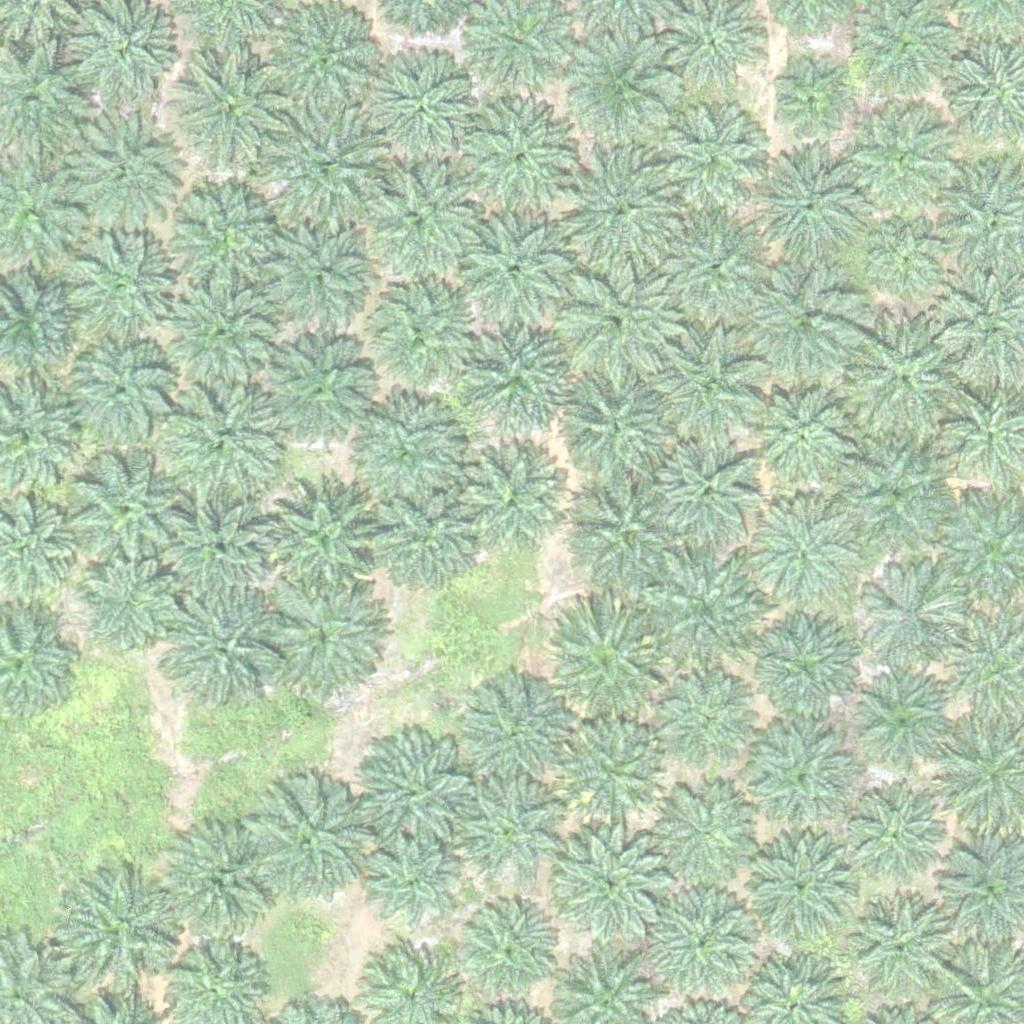Kelapa_Sawit: (168, 52, 293, 178), (55, 231, 180, 357), (58, 108, 183, 234), (60, 451, 185, 577), (165, 271, 290, 397), (164, 379, 289, 505), (160, 587, 285, 713), (346, 161, 471, 287), (259, 472, 384, 598), (263, 576, 388, 702), (556, 146, 681, 272), (552, 261, 677, 387), (848, 317, 973, 443), (350, 730, 475, 856), (244, 783, 369, 909), (61, 868, 186, 994), (165, 177, 290, 302), (351, 272, 476, 397), (340, 390, 465, 515), (543, 605, 668, 730), (74, 550, 187, 664), (657, 212, 770, 326), (654, 105, 767, 219), (163, 822, 276, 936), (565, 33, 678, 146), (260, 335, 373, 448), (261, 221, 374, 334), (274, 106, 387, 219), (366, 480, 479, 593), (653, 437, 766, 550), (650, 333, 763, 446), (749, 617, 862, 730), (739, 828, 852, 941), (557, 824, 670, 937), (749, 153, 861, 267), (751, 267, 863, 381), (839, 446, 951, 560), (376, 56, 488, 169), (66, 339, 178, 452), (158, 495, 270, 608), (457, 443, 569, 556), (464, 318, 576, 431), (456, 215, 568, 328), (461, 105, 573, 218), (561, 375, 673, 488), (568, 473, 680, 586), (650, 560, 762, 673), (648, 776, 760, 889), (649, 886, 761, 999), (757, 502, 857, 603), (851, 673, 951, 774), (851, 115, 951, 216), (844, 784, 944, 885), (848, 891, 948, 992), (752, 726, 852, 827), (655, 669, 755, 770), (561, 719, 661, 820), (471, 681, 571, 782), (459, 779, 559, 880), (455, 900, 555, 1001), (361, 832, 461, 933), (750, 385, 850, 485), (857, 570, 957, 670), (770, 65, 845, 141), (872, 224, 947, 300)
